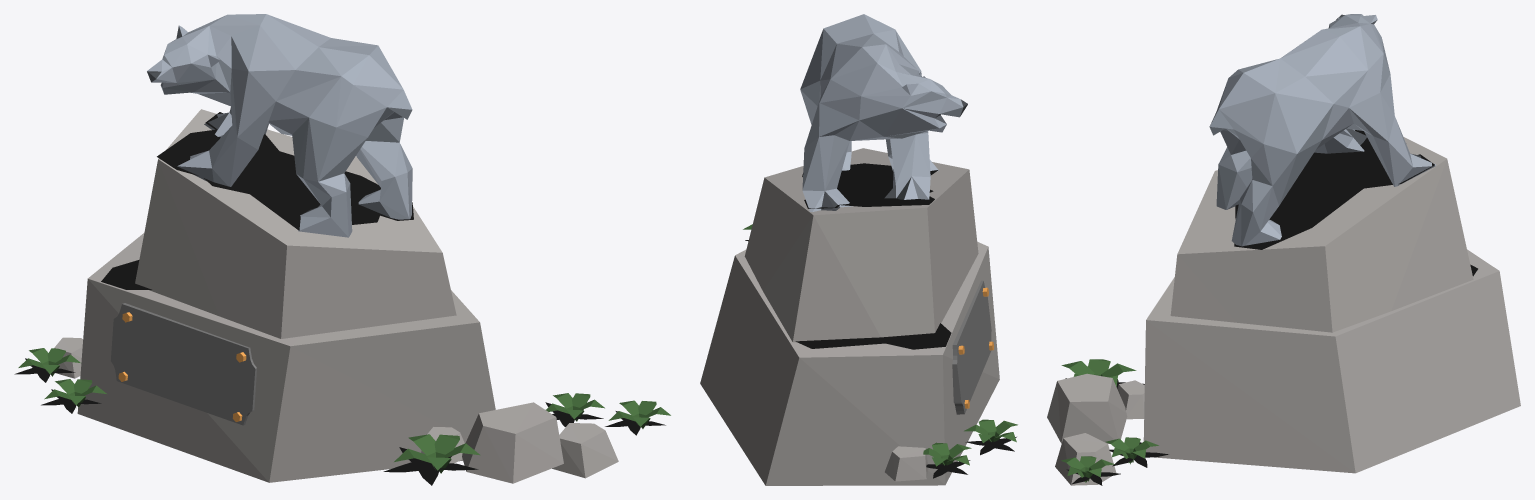
The model's file is zhuangshi_29.FBX.
3 renders of one model, left to right at view 1: azimuth 30°, elevation 25°; view 2: azimuth 150°, elevation 25°; view 3: azimuth 270°, elevation 25°, orthographic. The views are drawn at different scales.
Visible parts, largest first — view 1: zhuangshi_29; view 2: zhuangshi_29; view 3: zhuangshi_29.
Part boxes in pixels (x1,y1,x2,y2): zhuangshi_29: (14, 14, 670, 485); zhuangshi_29: (700, 14, 1017, 485); zhuangshi_29: (1047, 14, 1520, 485).
Bounding box in the file's own units: 1477 × 1247 × 1456.
